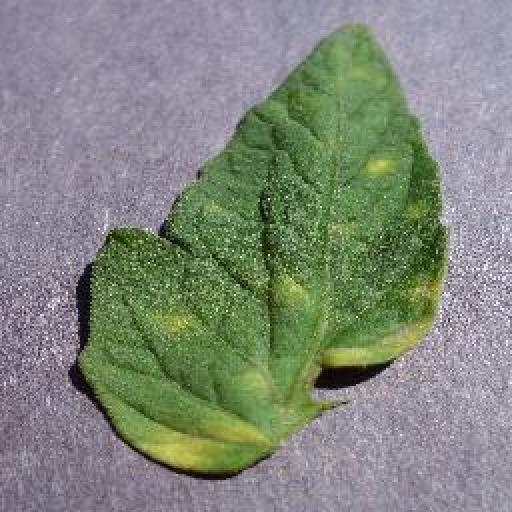Leaf Mold: (82, 21, 447, 476)
